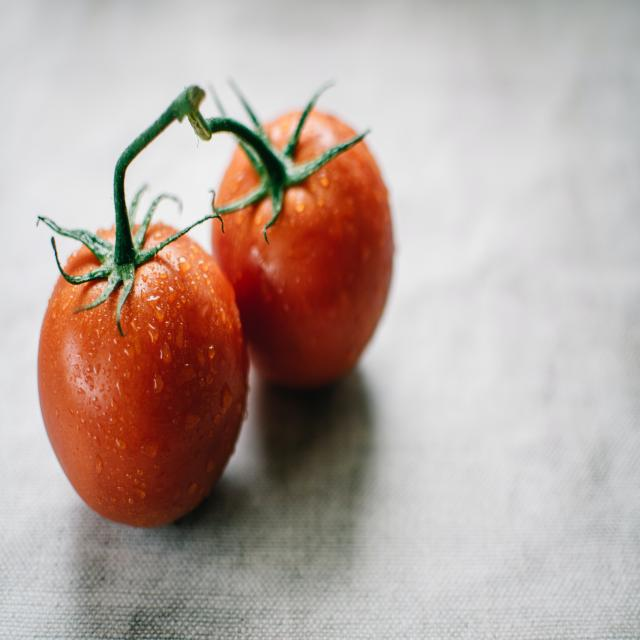Tomato: (27, 210, 252, 500), (196, 98, 398, 363)
